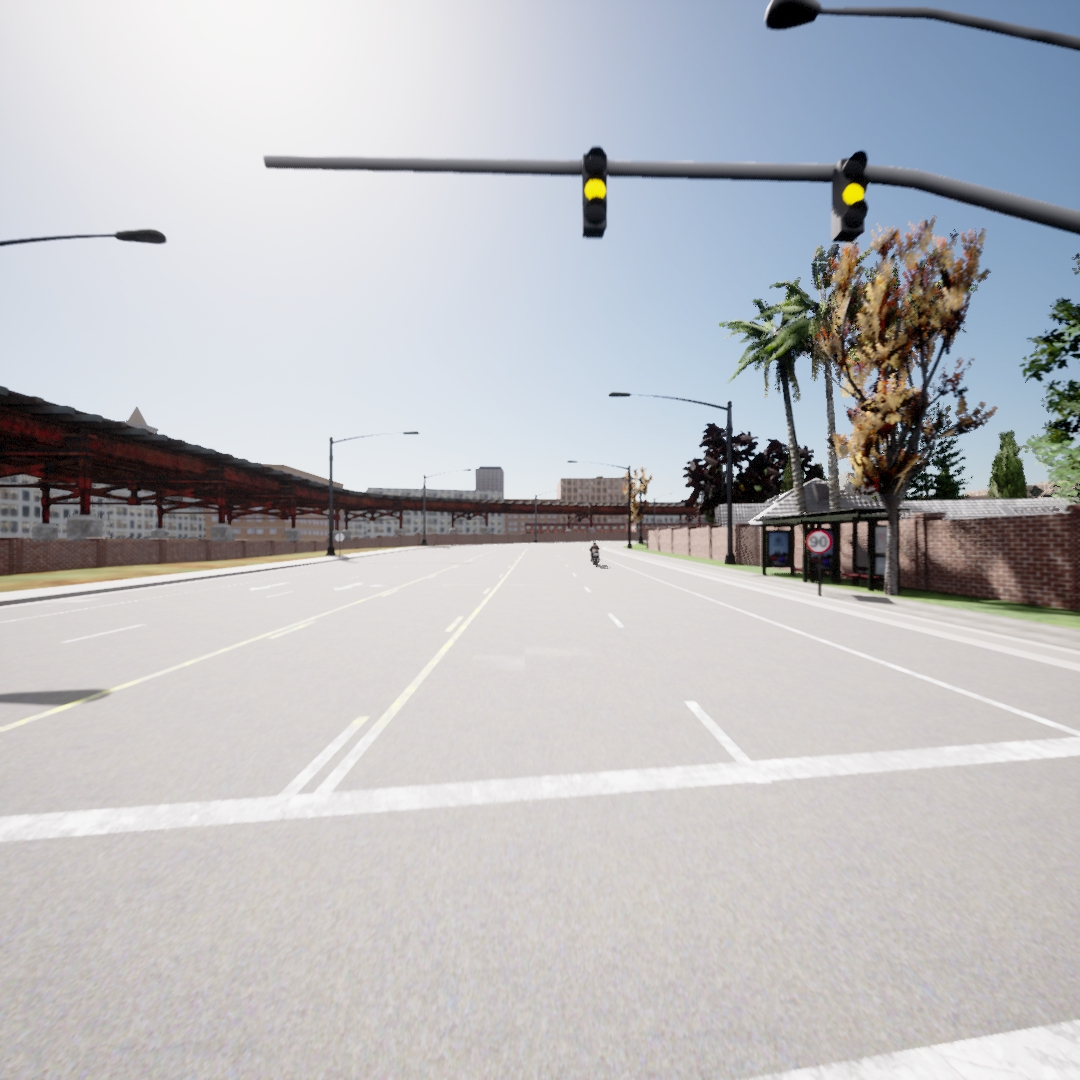Rider: (273, 559, 345, 609)
Roadline: (118, 823, 341, 1080), (884, 819, 1080, 991), (0, 735, 987, 755), (0, 675, 971, 683)
TrafficLight: (953, 293, 977, 341)
